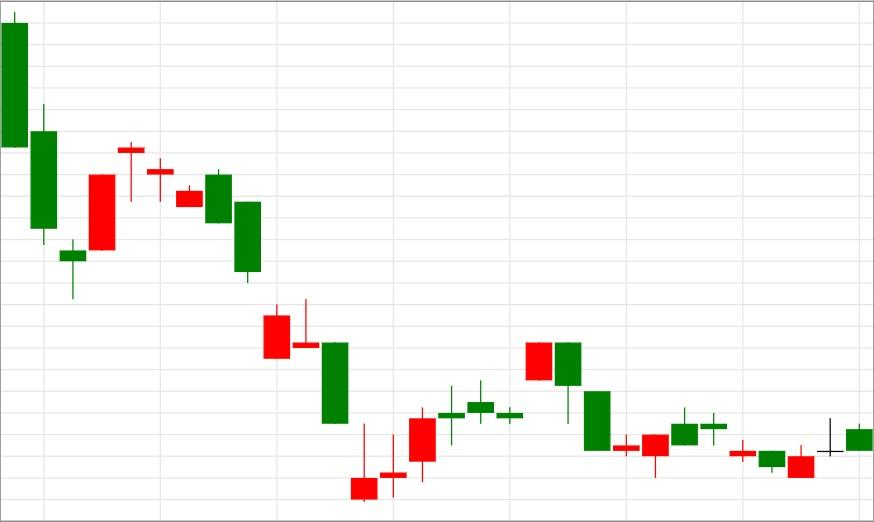bearish_engulfing_fall: (350, 342, 582, 503)
inverse_hammer_rise: (117, 141, 379, 503)
